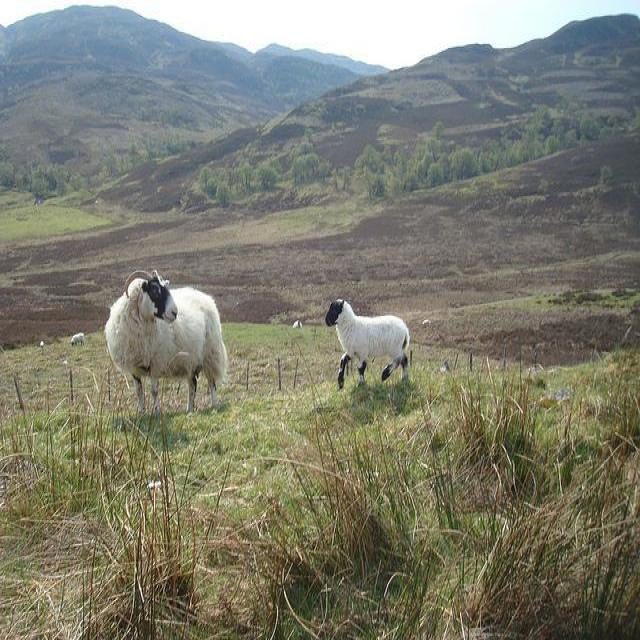Sheep: (103, 269, 227, 419), (325, 299, 411, 389)
